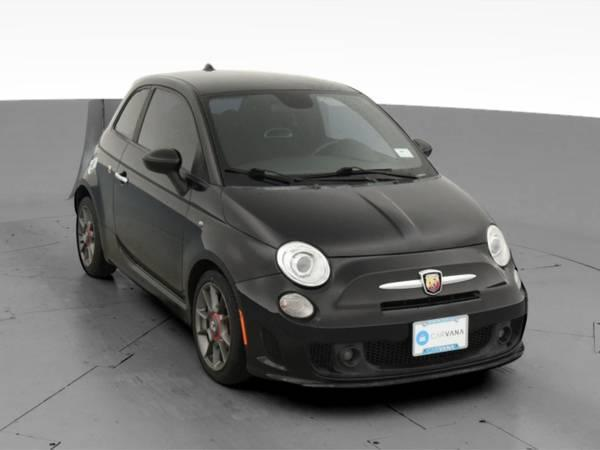Front_Bumper: (233, 242, 530, 385)
Front_Fender: (185, 179, 280, 288)
Front_Right_Door: (113, 138, 191, 312)
Front_Right_Window: (134, 87, 204, 181)
Front_Windshield: (201, 92, 438, 191)
Hood: (222, 176, 493, 256)
Left_Headlight: (488, 225, 513, 263)
Rear_Fender: (75, 86, 154, 262)
Right_Headlight: (277, 242, 331, 287)
Roof: (133, 70, 360, 180)
Wheel: (190, 272, 243, 380), (76, 197, 115, 273)
